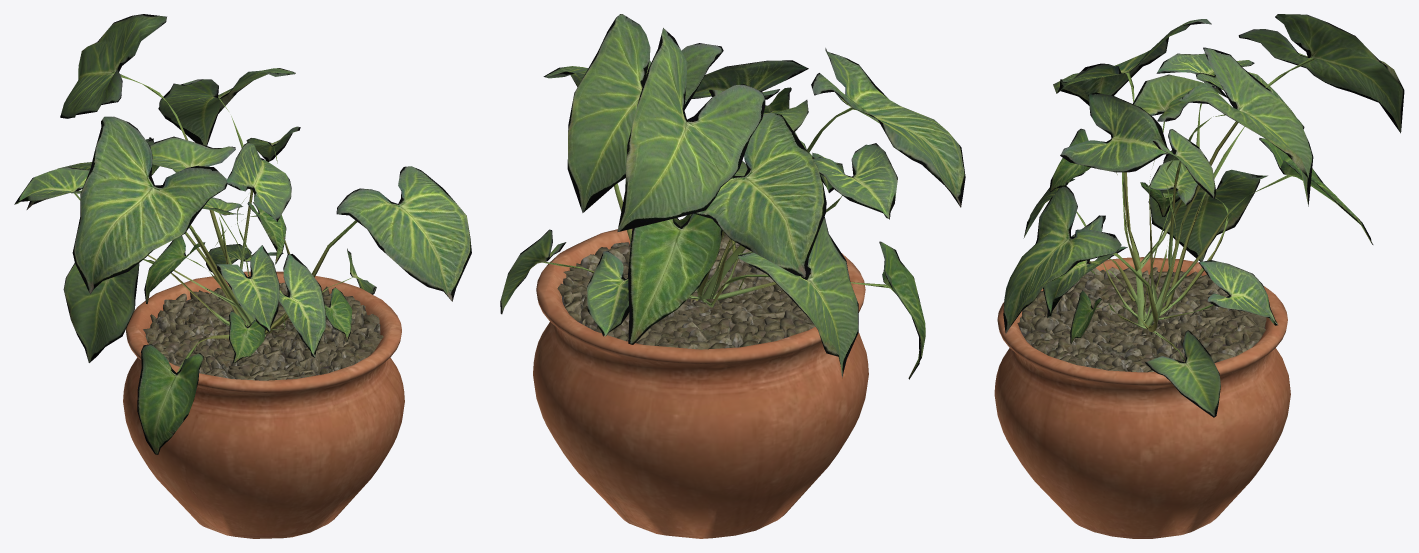
File: potted_plant_02.glb
3 renders of one model, left to right at view 1: azimuth 30°, elevation 25°; view 2: azimuth 150°, elevation 25°; view 3: azimuth 270°, elevation 25°, orthographic. The views are drawn at different scales.
Visible parts, largest first — view 1: potted_plant_02_leaves, potted_plant_02_pot, potted_plant_02_dirt; view 2: potted_plant_02_leaves, potted_plant_02_pot, potted_plant_02_dirt; view 3: potted_plant_02_leaves, potted_plant_02_pot, potted_plant_02_dirt.
Part boxes in pixels (left/top/right/bottom): potted_plant_02_leaves: left=14, top=14, right=471, bottom=454; potted_plant_02_pot: left=123, top=271, right=404, bottom=538; potted_plant_02_dirt: left=143, top=282, right=383, bottom=380; potted_plant_02_leaves: left=500, top=14, right=965, bottom=379; potted_plant_02_pot: left=533, top=229, right=868, bottom=538; potted_plant_02_dirt: left=557, top=233, right=814, bottom=349; potted_plant_02_leaves: left=1003, top=14, right=1404, bottom=417; potted_plant_02_pot: left=994, top=257, right=1290, bottom=538; potted_plant_02_dirt: left=1017, top=267, right=1266, bottom=372.
Size of the model in its own units: 0.7012 by 0.8401 by 0.6557.
Materials: 2 (2 with a texture image).
